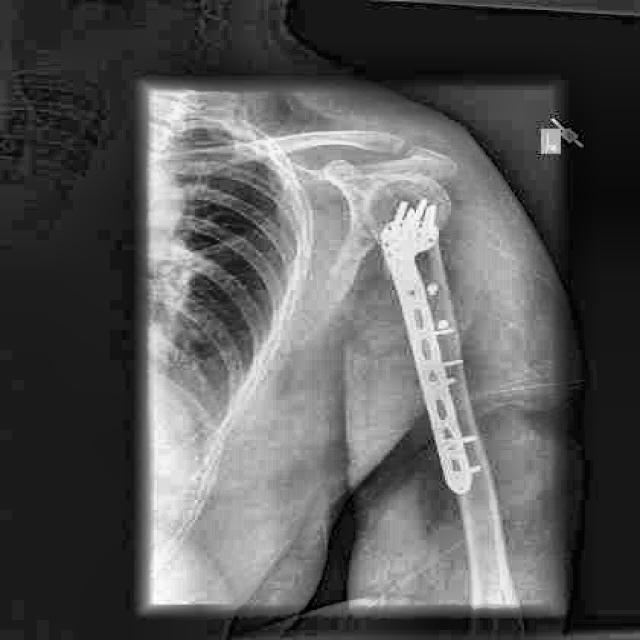shoulder fracture: (416, 233, 455, 297)
